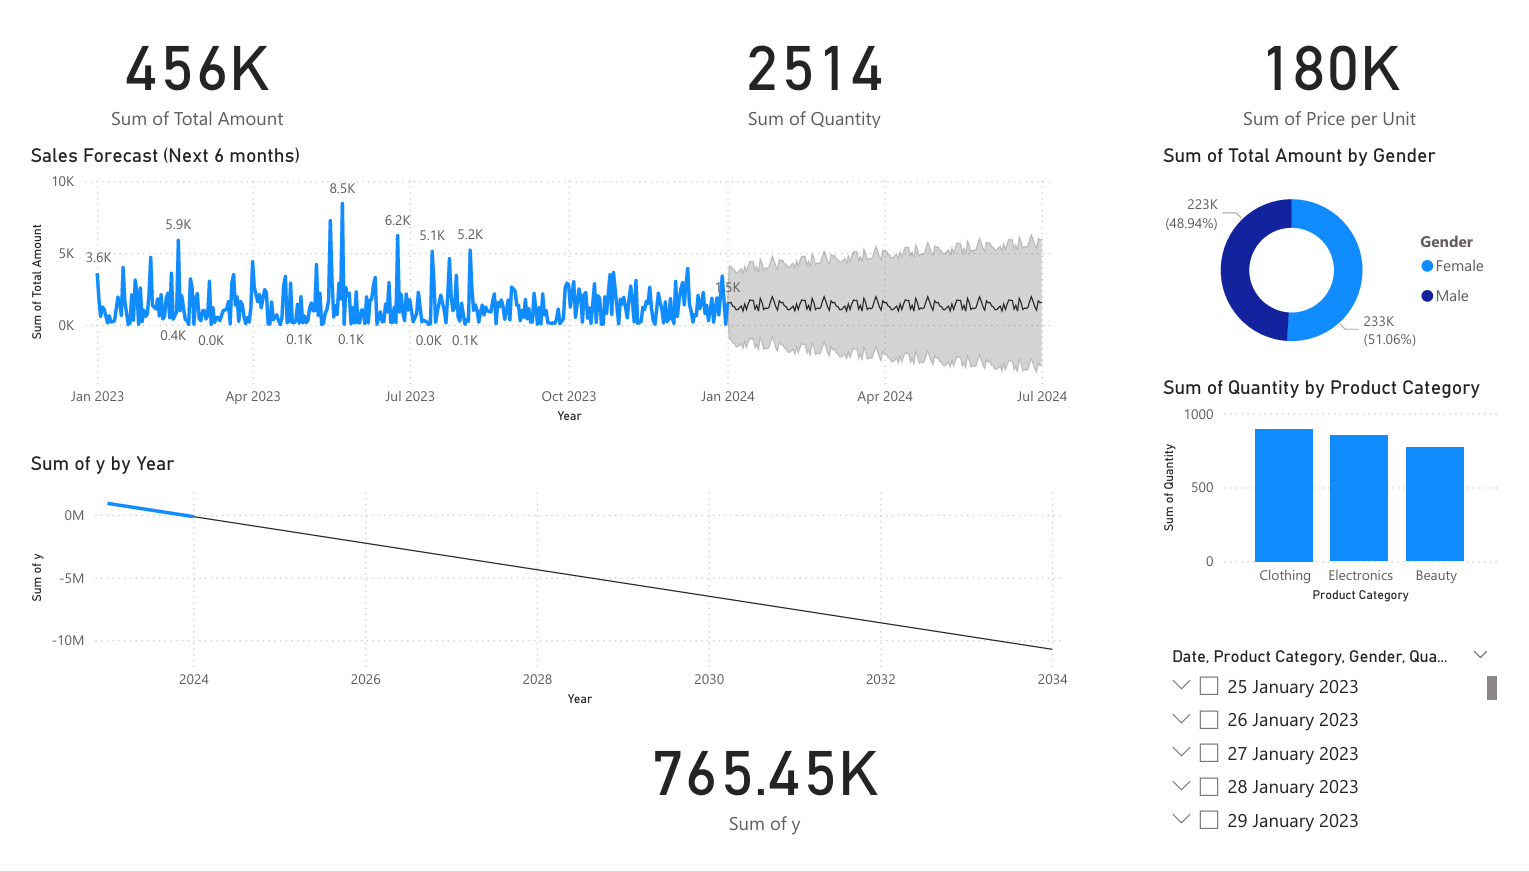

Layout of this report page (visuals, bound fields, positions):
{"tool":"powerbi","page":{"name":"Page 1","canvas":[1280,720],"ordinal":0},"visuals":[{"type":"lineChart","title":"Sales Forecast (Next 6 months)","fields":{"Category":["retail_sales_dataset.Date.Variation.Date Hierarchy.Year","retail_sales_dataset.Date.Variation.Date Hierarchy.Quarter","retail_sales_dataset.Date.Variation.Date Hierarchy.Month","retail_sales_dataset.Date.Variation.Date Hierarchy.Day"],"Y":["Sum(retail_sales_dataset.Total Amount)"]},"box":[0,113.2,908.3,246.6],"z":0},{"type":"lineChart","fields":{"Category":["sales_actual_vs_forecast.ds.Variation.Date Hierarchy.Year","sales_actual_vs_forecast.ds.Variation.Date Hierarchy.Quarter","sales_actual_vs_forecast.ds.Variation.Date Hierarchy.Month","sales_actual_vs_forecast.ds.Variation.Date Hierarchy.Day"],"Y":["Sum(sales_actual_vs_forecast.y)"]},"box":[0,380,908.3,225.1],"z":1000},{"type":"card","fields":{"Values":["Sum(retail_sales_dataset.Total Amount)"]},"box":[0,0,299.2,103.8],"z":2000},{"type":"card","fields":{"Values":["Sum(sales_actual_vs_forecast.y)"]},"box":[491.9,605.1,297.8,114.6],"z":3000},{"type":"card","fields":{"Values":["Sum(retail_sales_dataset.Price per Unit)"]},"box":[981.1,0,299.2,103.8],"z":3001},{"type":"card","fields":{"Values":["Sum(retail_sales_dataset.Quantity)"]},"box":[533.7,0,300.5,103.8],"z":3002},{"type":"columnChart","fields":{"Category":["retail_sales_dataset.Product Category"],"Y":["Sum(retail_sales_dataset.Quantity)"]},"box":[981.1,314,299.2,200.8],"z":3003},{"type":"donutChart","fields":{"Category":["retail_sales_dataset.Gender"],"Y":["Sum(retail_sales_dataset.Total Amount)"]},"box":[981.1,113.2,299.2,200.8],"z":3004},{"type":"slicer","fields":{"Values":["retail_sales_dataset.Date","retail_sales_dataset.Product Category","retail_sales_dataset.Gender","retail_sales_dataset.Quantity","retail_sales_dataset.Total Amount","retail_sales_dataset.Customer ID","retail_sales_dataset.Age","retail_sales_dataset.Price per Unit","retail_sales_dataset.Transaction ID"]},"box":[981.1,544.5,299.2,175.2],"z":3005}]}

Visuals, with their boxes in screenshot pixels (x1, y1, x2, y2), scaled from the page's 1280x720 canvas onto the 1529x872 screenshot:
"Sales Forecast (Next 6 months)" lineChart: bbox=[0, 137, 1085, 436]
lineChart - sales_actual_vs_forecast.ds.Variation.Date Hierarchy.Year x sales_actual_vs_forecast.ds.Variation.Date Hierarchy.Quarter: bbox=[0, 460, 1085, 733]
card - Sum(retail_sales_dataset.Total Amount): bbox=[0, 0, 357, 126]
card - Sum(sales_actual_vs_forecast.y): bbox=[588, 733, 943, 871]
card - Sum(retail_sales_dataset.Price per Unit): bbox=[1172, 0, 1528, 126]
card - Sum(retail_sales_dataset.Quantity): bbox=[638, 0, 996, 126]
columnChart - retail_sales_dataset.Product Category x Sum(retail_sales_dataset.Quantity): bbox=[1172, 380, 1528, 623]
donutChart - retail_sales_dataset.Gender x Sum(retail_sales_dataset.Total Amount): bbox=[1172, 137, 1528, 380]
slicer - retail_sales_dataset.Date x retail_sales_dataset.Product Category: bbox=[1172, 659, 1528, 871]
